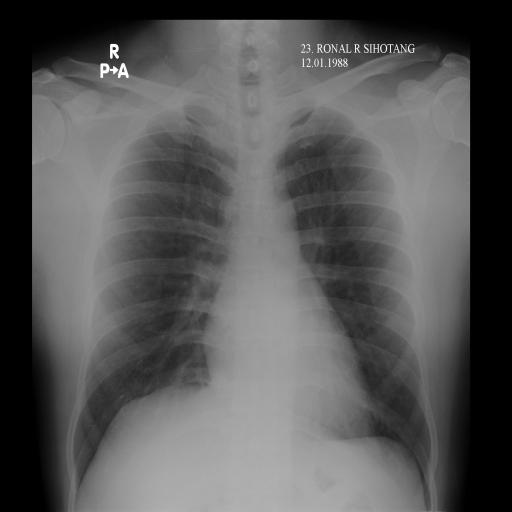normal: (60, 54, 438, 509)
